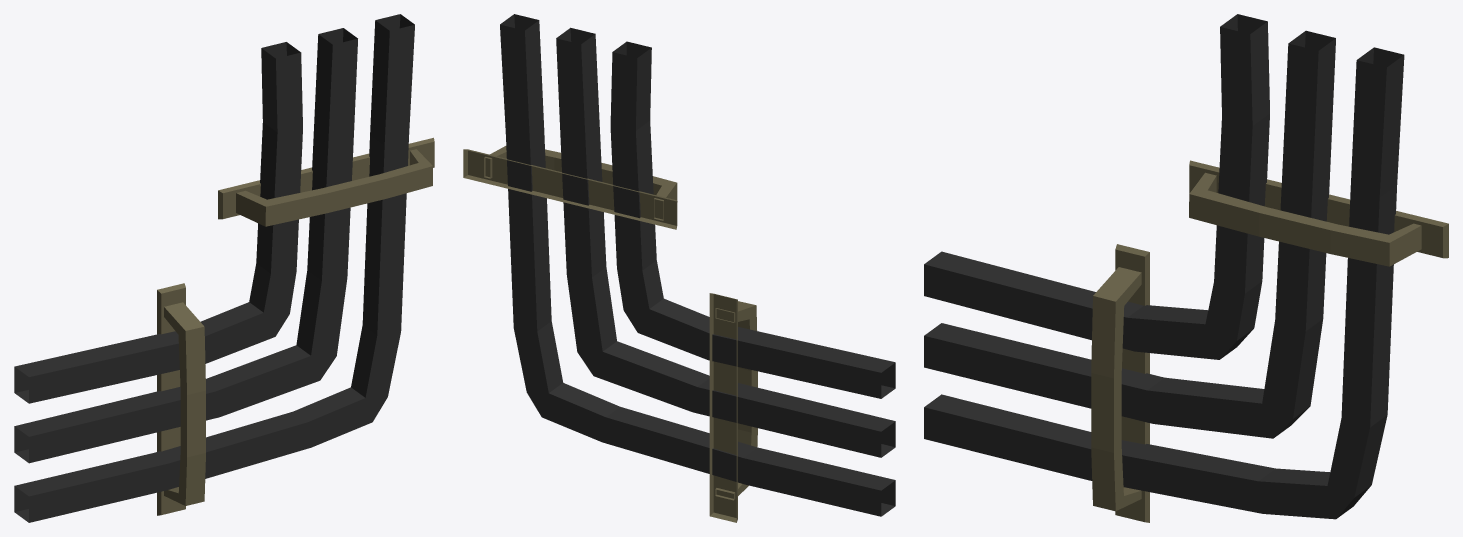
Rendered from SW_ENV_Wires3_StationWall_90dTurn.fbx.
The picture shows the model from 3 angles, left to right: view 1: azimuth 30°, elevation 25°; view 2: azimuth 150°, elevation 25°; view 3: azimuth 330°, elevation 25°; orthographic projection. The views are drawn at different scales.
Visible parts, largest first — view 1: SW_ENV_Wires3_StationWall_90dTurn; view 2: SW_ENV_Wires3_StationWall_90dTurn; view 3: SW_ENV_Wires3_StationWall_90dTurn.
Boxes of the visible parts, x1=… form: SW_ENV_Wires3_StationWall_90dTurn: x1=14, y1=14, x2=434, y2=522; SW_ENV_Wires3_StationWall_90dTurn: x1=463, y1=14, x2=895, y2=522; SW_ENV_Wires3_StationWall_90dTurn: x1=924, y1=14, x2=1448, y2=522.
Size of the model in its own units: 66.57 by 67.06 by 7.06.
